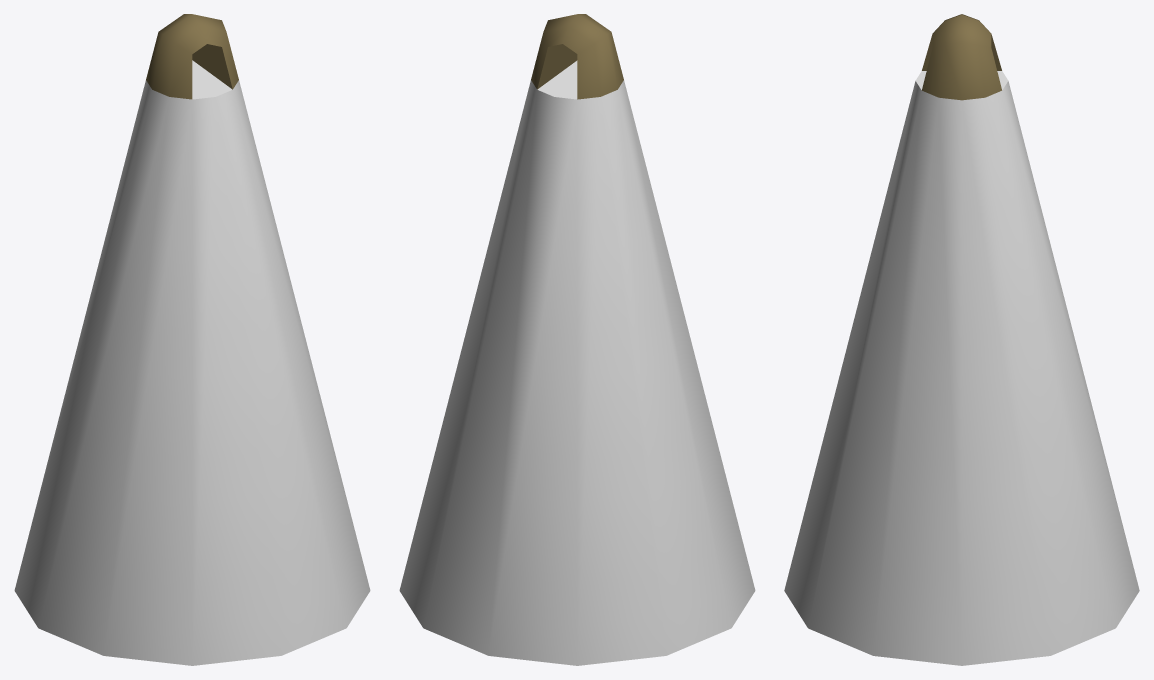
The model's file is Buoy_Pyramid_B.fbx.
3 renders of one model, left to right at view 1: azimuth 30°, elevation 25°; view 2: azimuth 150°, elevation 25°; view 3: azimuth 270°, elevation 25°, orthographic.
Parts seen in each view (by area): view 1: Buoy_Pyramid_B; view 2: Buoy_Pyramid_B; view 3: Buoy_Pyramid_B.
Part boxes in pixels (<box>): Buoy_Pyramid_B: <box>14,14,370,665</box>; Buoy_Pyramid_B: <box>399,14,755,665</box>; Buoy_Pyramid_B: <box>784,14,1139,665</box>.
Size of the model in its own units: 64.62 by 115 by 64.62.
